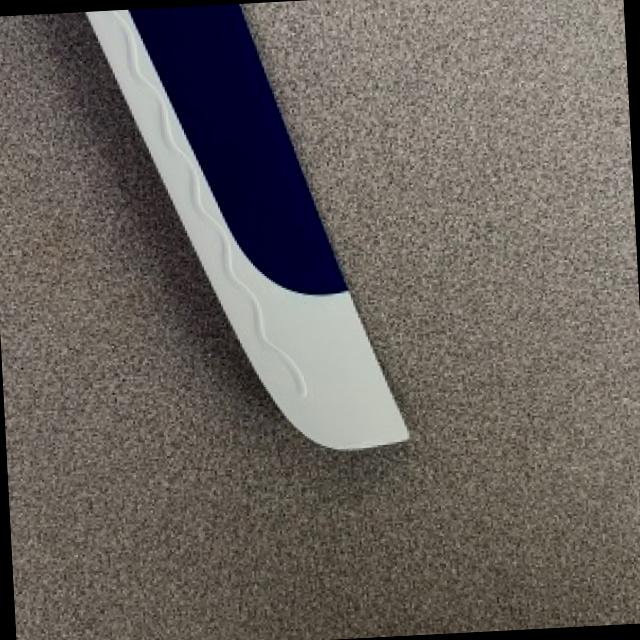healthy: (88, 12, 409, 446)
